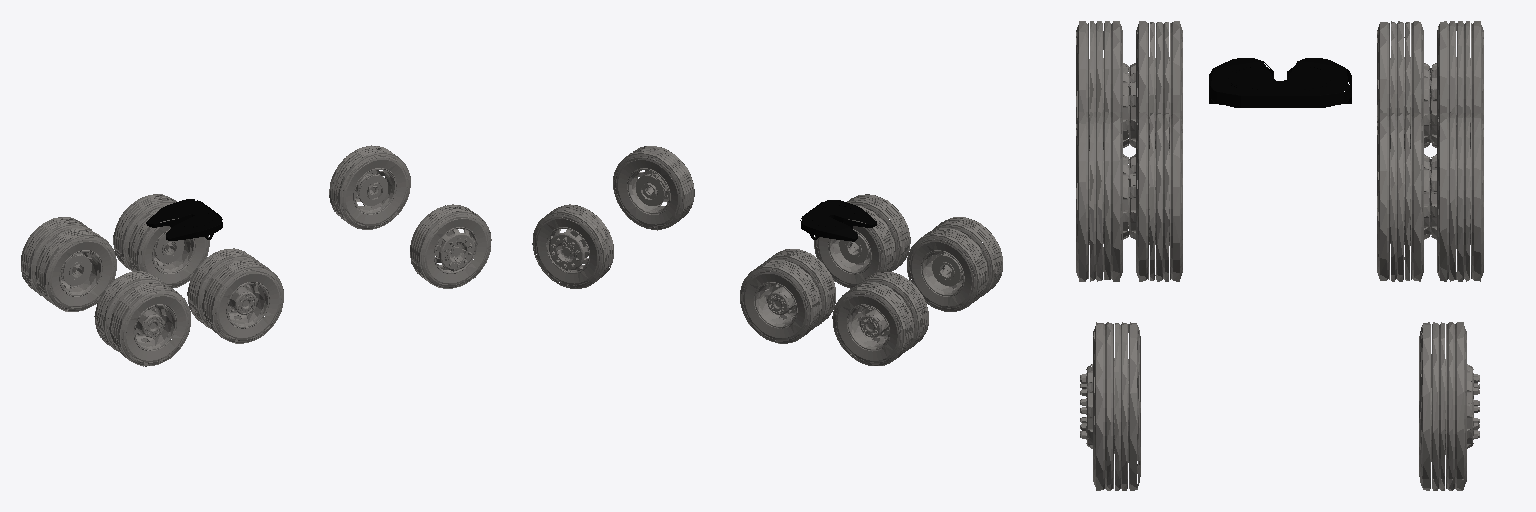
The robot description file, URDF, robot "truck":
<robot name="truck" version="1.0">
  <joint name="truck_chassis_joint" type="fixed">
    <origin rpy="0.00000 0.00000 0.00000" xyz="0.31460 0.00000 0.93498" />
    <parent link="truck" />
    <child link="truck_chassis_link" />
  </joint>
  <joint name="truck_fifth_wheel_link_joint" type="revolute">
    <limit lower="-3.14000" upper="3.14000" effort="0.00000" velocity="0.00000" />
    <origin rpy="0.00000 0.00000 0.00000" xyz="-1.42640 0.00000 1.21575" />
    <parent link="truck" />
    <child link="truck_fifth_wheel_link" />
    <axis xyz="0.00000 1.00000 0.00000" />
  </joint>
  <joint name="truck_fls_link_joint" type="revolute">
    <limit lower="-3.14000" upper="3.14000" effort="0.00000" velocity="0.00000" />
    <origin rpy="0.00000 0.00000 0.00000" xyz="1.89388 1.02500 0.51968" />
    <parent link="truck" />
    <child link="truck_fls_link" />
    <axis xyz="0.00000 0.00000 1.00000" />
  </joint>
  <joint name="truck_flw_link_joint" type="continuous">
    <limit lower="0" upper="0" effort="0.00000" velocity="0.00000" />
    <origin rpy="0.00000 0.00000 0.00000" xyz="0.00000 0.00000 0.00000" />
    <parent link="truck_fls_link" />
    <child link="truck_flw_link" />
    <axis xyz="0.00000 1.00000 0.00000" />
  </joint>
  <joint name="truck_frs_link_joint" type="revolute">
    <limit lower="0.00000" upper="0.00000" effort="0.00000" velocity="0.00000" />
    <origin rpy="0.00000 0.00000 0.00000" xyz="1.89395 -1.02500 0.51968" />
    <parent link="truck" />
    <child link="truck_frs_link" />
    <axis xyz="0.00000 0.00000 1.00000" />
  </joint>
  <joint name="truck_frw_link_joint" type="continuous">
    <limit lower="0" upper="0" effort="0.00000" velocity="0.00000" />
    <origin rpy="0.00000 0.00000 0.00000" xyz="0.00000 0.00000 0.00000" />
    <parent link="truck_frs_link" />
    <child link="truck_frw_link" />
    <axis xyz="0.00000 1.00000 0.00000" />
  </joint>
  <joint name="truck_mlw_link_joint" type="continuous">
    <limit lower="0" upper="0" effort="0.00000" velocity="0.00000" />
    <origin rpy="0.00000 0.00000 0.00000" xyz="-1.20090 0.93800 0.51968" />
    <parent link="truck" />
    <child link="truck_mlw_link" />
    <axis xyz="0.00000 1.00000 0.00000" />
  </joint>
  <joint name="truck_mrw_link_joint" type="continuous">
    <limit lower="0" upper="0" effort="0.00000" velocity="0.00000" />
    <origin rpy="0.00000 0.00000 0.00000" xyz="-1.20090 -0.93800 0.51968" />
    <parent link="truck" />
    <child link="truck_mrw_link" />
    <axis xyz="0.00000 1.00000 0.00000" />
  </joint>
  <joint name="truck_rear_axle_link_joint" type="fixed">
    <origin rpy="0.00000 0.00000 0.00000" xyz="-1.87857 -0.00000 0.51968" />
    <parent link="truck" />
    <child link="truck_rear_axle_link" />
  </joint>
  <joint name="truck_rear_end_link_joint" type="fixed">
    <origin rpy="0.00000 0.00000 0.00000" xyz="-3.60090 0.00000 0.93498" />
    <parent link="truck" />
    <child link="truck_rear_end_link" />
  </joint>
  <joint name="truck_rlw_link_joint" type="continuous">
    <limit lower="0" upper="0" effort="0.00000" velocity="0.00000" />
    <origin rpy="0.00000 0.00000 0.00000" xyz="-2.55624 0.93800 0.51968" />
    <parent link="truck" />
    <child link="truck_rlw_link" />
    <axis xyz="0.00000 1.00000 0.00000" />
  </joint>
  <joint name="truck_rrw_link_joint" type="continuous">
    <limit lower="0" upper="0" effort="0.00000" velocity="0.00000" />
    <origin rpy="0.00000 0.00000 0.00000" xyz="-2.55624 -0.93800 0.51968" />
    <parent link="truck" />
    <child link="truck_rrw_link" />
    <axis xyz="0.00000 1.00000 0.00000" />
  </joint>
  <link name="truck" />
  <link name="truck_chassis_link">
    <visual name="body">
      <origin rpy="0.00000 0.00000 0.00000" xyz="0.00000 0.00000 0.00000" />
      <material name="mat_13" />
      <geometry>
        <mesh filename="package://waywiser_description/meshes/truck/body.dae"
          scale="0.01000 0.01000 0.01000" />
      </geometry>
    </visual>
  </link>
  <link name="truck_fifth_wheel_link">
    <visual name="fifth_wheel">
      <origin rpy="0.00000 -0.00000 0.00000" xyz="-0.00000 -0.00000 -0.00000" />
      <material name="mat_0" />
      <geometry>
        <mesh filename="package://waywiser_description/meshes/truck/fifth_wheel.dae"
          scale="0.01000 0.01000 0.01000" />
      </geometry>
    </visual>
  </link>
  <link name="truck_fls_link" />
  <link name="truck_flw_link">
    <visual name="flw">
      <origin rpy="0.00000 0.00000 0.00000" xyz="-0.00000 0.00000 -0.00000" />
      <material name="mat_13" />
      <geometry>
        <mesh filename="package://waywiser_description/meshes/truck/front_left_wheel.dae"
          scale="0.01000 0.01000 0.01000" />
      </geometry>
    </visual>
  </link>
  <link name="truck_frs_link" />
  <link name="truck_frw_link">
    <visual name="frw">
      <origin rpy="0.00000 0.00000 -3.14159" xyz="0.00000 0.00000 -0.00000" />
      <material name="mat_13" />
      <geometry>
        <mesh filename="package://waywiser_description/meshes/truck/front_left_wheel.dae"
          scale="0.01000 0.01000 0.01000" />
      </geometry>
    </visual>
  </link>
  <link name="truck_mlw_link">
    <visual name="mlw">
      <origin rpy="0.00000 0.00000 0.00000" xyz="0.00000 0.00000 -0.00000" />
      <material name="mat_13" />
      <geometry>
        <mesh filename="package://waywiser_description/meshes/truck/rear_left_wheel.dae"
          scale="0.01000 0.01000 0.01000" />
      </geometry>
    </visual>
  </link>
  <link name="truck_mrw_link">
    <visual name="mrw">
      <origin rpy="0.00000 0.00000 -3.14159" xyz="0.00000 0.00000 -0.00000" />
      <material name="mat_13" />
      <geometry>
        <mesh filename="package://waywiser_description/meshes/truck/rear_left_wheel.dae"
          scale="0.01000 0.01000 0.01000" />
      </geometry>
    </visual>
  </link>
  <link name="truck_rear_axle_link" />
  <link name="truck_rear_end_link" />
  <link name="truck_rlw_link">
    <visual name="rlw">
      <origin rpy="0.00000 0.00000 0.00000" xyz="0.00000 -0.00000 0.00000" />
      <material name="mat_13" />
      <geometry>
        <mesh filename="package://waywiser_description/meshes/truck/rear_left_wheel.dae"
          scale="0.01000 0.01000 0.01000" />
      </geometry>
    </visual>
  </link>
  <link name="truck_rrw_link">
    <visual name="rrw">
      <origin rpy="0.00000 0.00000 -3.14159" xyz="0.00000 0.00000 -0.00000" />
      <material name="mat_13" />
      <geometry>
        <mesh filename="package://waywiser_description/meshes/truck/rear_left_wheel.dae"
          scale="0.01000 0.01000 0.01000" />
      </geometry>
    </visual>
  </link>
  <material name="mat_0">
    <color rgba="0.05098 0.05098 0.05098 1.00000" />
  </material>
  <material name="mat_13">
    <color rgba="0.51373 0.50196 0.49020 1.00000" />
  </material>
</robot>

--- What the picture shows (computed from the rendered views, not written in the file) ---
Views: 3 orthographic renders of the robot side by side, from view 1: azimuth 30°, elevation 25°; view 2: azimuth 150°, elevation 25°; view 3: azimuth 270°, elevation 25°.
Robot: truck — 13 links, 12 joints (3 revolute, 6 continuous, 3 fixed); root link truck; default pose: every joint at zero.
Links seen in each view (by area): view 1: truck_mrw_link, truck_rrw_link, truck_rlw_link, truck_frw_link, truck_flw_link, truck_mlw_link, truck_fifth_wheel_link; view 2: truck_rlw_link, truck_mlw_link, truck_rrw_link, truck_frw_link, truck_flw_link, truck_mrw_link, truck_fifth_wheel_link; view 3: truck_mrw_link, truck_mlw_link, truck_rlw_link, truck_rrw_link, truck_flw_link, truck_frw_link, truck_fifth_wheel_link.
Link boxes in pixels (left/top/right/bottom): truck_mrw_link: left=187, top=248, right=283, bottom=343; truck_rrw_link: left=94, top=271, right=190, bottom=366; truck_rlw_link: left=21, top=217, right=116, bottom=311; truck_frw_link: left=410, top=204, right=491, bottom=288; truck_flw_link: left=329, top=145, right=410, bottom=229; truck_mlw_link: left=113, top=194, right=209, bottom=288; truck_fifth_wheel_link: left=146, top=199, right=222, bottom=240; truck_rlw_link: left=832, top=271, right=928, bottom=365; truck_mlw_link: left=740, top=249, right=835, bottom=343; truck_rrw_link: left=907, top=217, right=1002, bottom=311; truck_frw_link: left=613, top=146, right=694, bottom=230; truck_flw_link: left=532, top=204, right=613, bottom=288; truck_mrw_link: left=814, top=194, right=910, bottom=288; truck_fifth_wheel_link: left=800, top=200, right=876, bottom=241; truck_mrw_link: left=1076, top=112, right=1182, bottom=281; truck_mlw_link: left=1377, top=113, right=1483, bottom=281; truck_rlw_link: left=1377, top=21, right=1483, bottom=148; truck_rrw_link: left=1076, top=21, right=1182, bottom=150; truck_flw_link: left=1419, top=322, right=1479, bottom=490; truck_frw_link: left=1080, top=322, right=1140, bottom=490; truck_fifth_wheel_link: left=1209, top=58, right=1351, bottom=107.
Bounding box of the posed robot: 5.51 × 2.55 × 1.32 m (x, y, z).
7 mesh visuals loaded from 4 distinct referenced files (3 Collada DAE); not drawn: 1 (reference not matched to a file when rendering).
